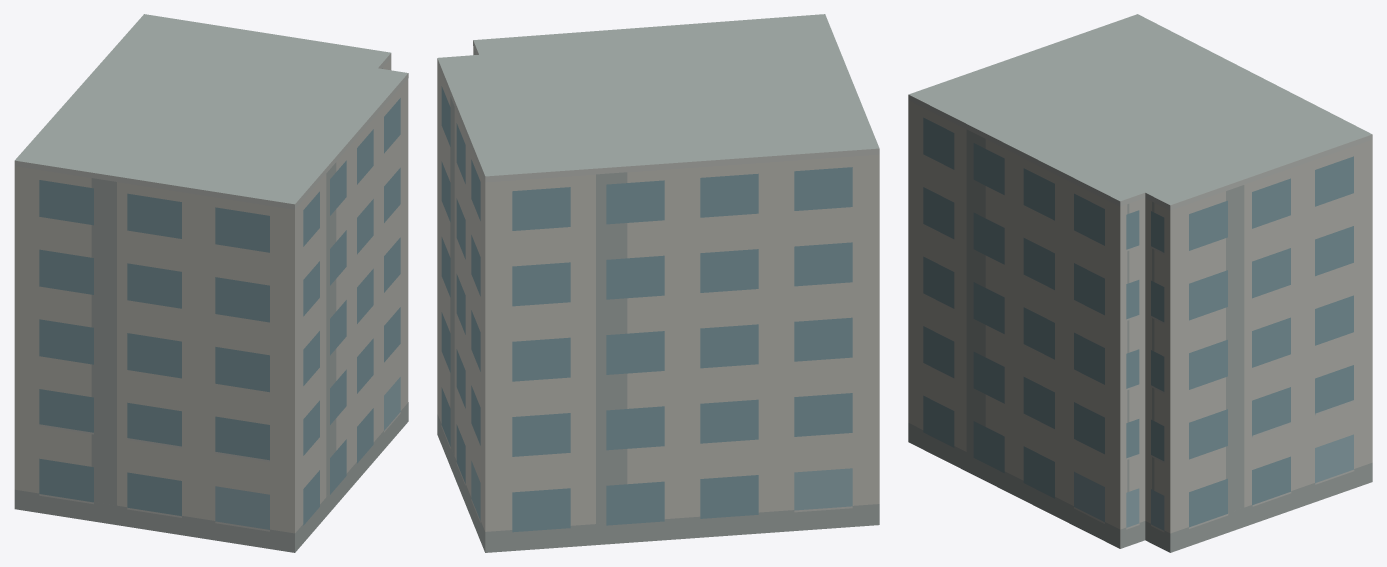
Rendered from survey-upis-32833265.glb.
3 renders of one model, left to right at view 1: azimuth 30°, elevation 25°; view 2: azimuth 150°, elevation 25°; view 3: azimuth 270°, elevation 25°, orthographic. The views are drawn at different scales.
Visible parts, largest first — view 1: survey-upis-32833265.tmp; view 2: survey-upis-32833265.tmp; view 3: survey-upis-32833265.tmp.
Part boxes in pixels (x1=…): survey-upis-32833265.tmp: x1=14, y1=14, x2=408, y2=552; survey-upis-32833265.tmp: x1=437, y1=14, x2=879, y2=552; survey-upis-32833265.tmp: x1=908, y1=14, x2=1372, y2=552.
Bounding box in the file's own units: 18.54 × 15.7 × 19.01.
